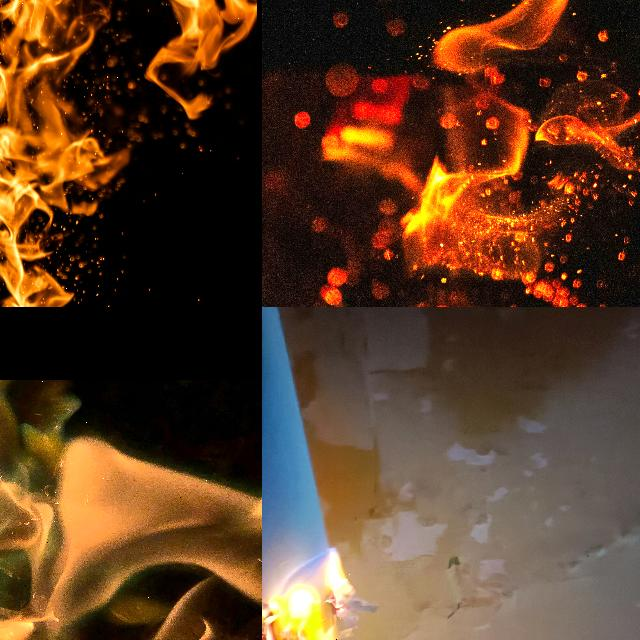fire: (320, 0, 640, 307), (0, 0, 125, 307), (262, 550, 375, 640)
